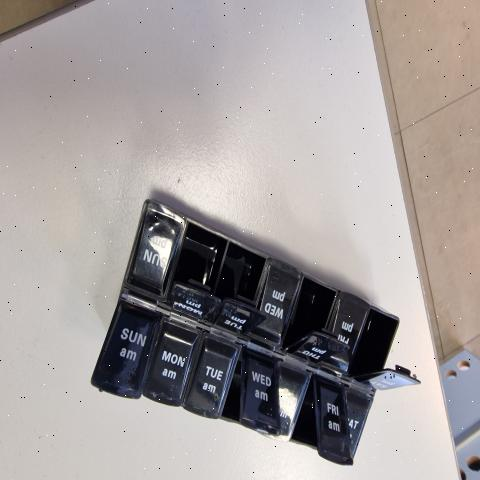Open: (162, 222, 229, 301), (284, 278, 337, 351), (217, 242, 269, 316), (346, 309, 400, 379), (292, 380, 318, 449), (220, 351, 244, 420)
